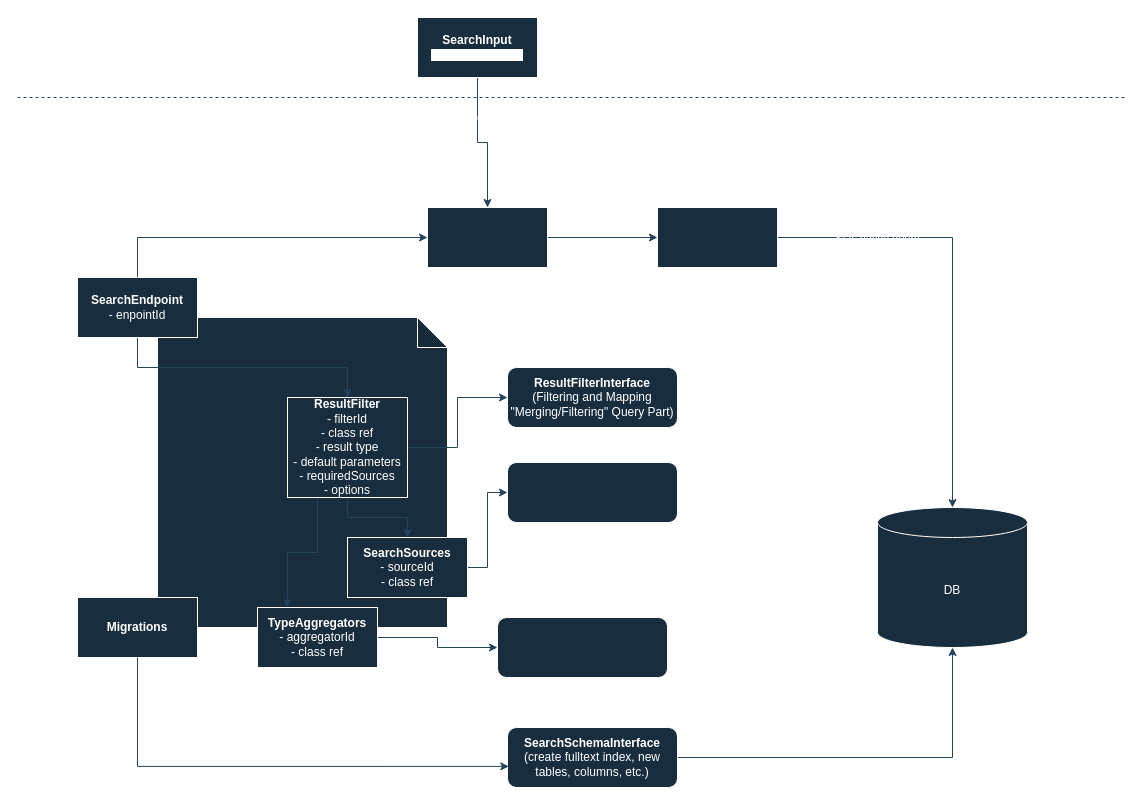
Image size: 1146x805. Some labels were removed from this diagram. The box of each missing label's shape, as (x1, y1, x2, y2) in pixels:
Configuration (Flow, Laravel, etc.): (156, 316, 448, 628)
QueryBuilder: (656, 206, 778, 268)
SearchQuery: (426, 206, 548, 268)
SearchSourceInterface (Fulltext "Searching" Query Part): (506, 462, 678, 522)
TypeAggregatorInterface ("Grouping" Query Part): (496, 616, 668, 678)
